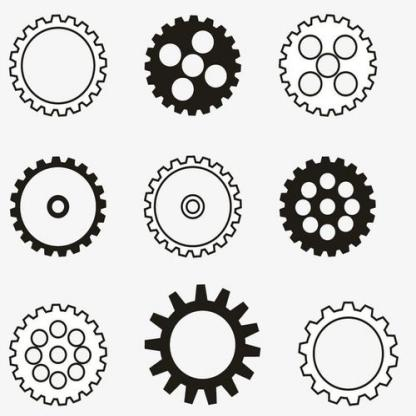FOD: (141, 283, 264, 409), (140, 12, 244, 122), (296, 299, 400, 406), (7, 152, 112, 257), (277, 11, 380, 118), (277, 151, 378, 260), (143, 151, 244, 258), (8, 10, 108, 115)
